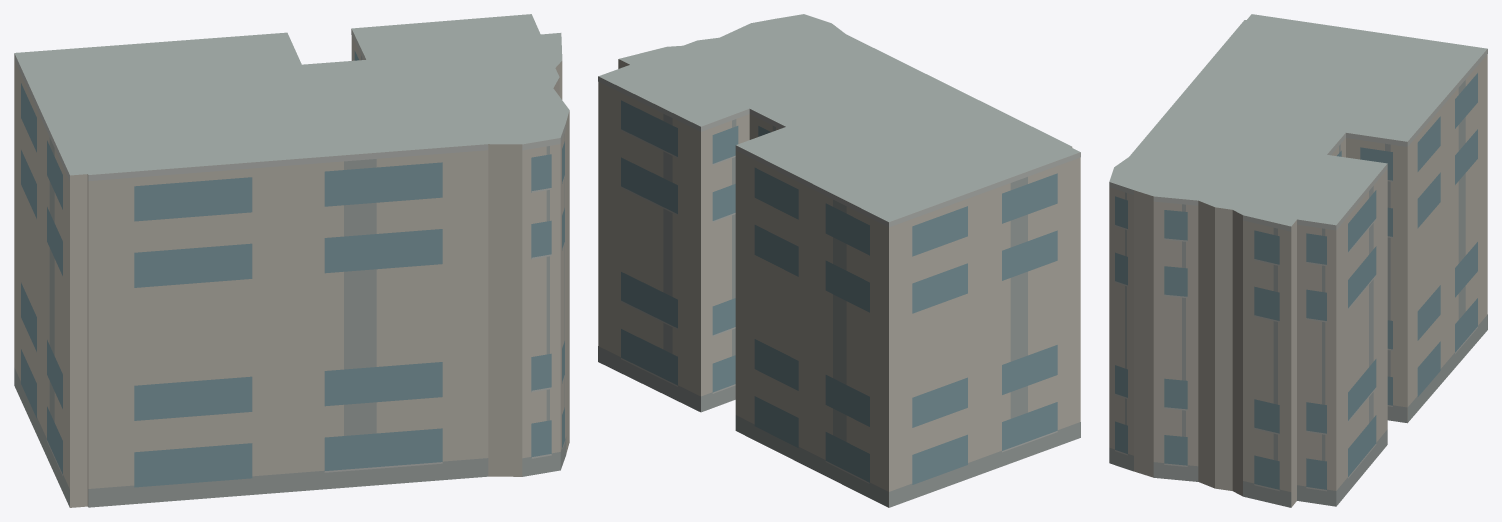
Rendered from survey-upis-32904828.glb.
3 renders of one model, left to right at view 1: azimuth 30°, elevation 25°; view 2: azimuth 150°, elevation 25°; view 3: azimuth 270°, elevation 25°, orthographic. The views are drawn at different scales.
Visible parts, largest first — view 1: survey-upis-32904828.tmp; view 2: survey-upis-32904828.tmp; view 3: survey-upis-32904828.tmp.
Boxes of the visible parts, x1=… form: survey-upis-32904828.tmp: x1=14, y1=14, x2=569, y2=507; survey-upis-32904828.tmp: x1=598, y1=14, x2=1080, y2=507; survey-upis-32904828.tmp: x1=1109, y1=14, x2=1487, y2=507.
Size of the model in its own units: 21.4 by 13.2 by 16.11.
